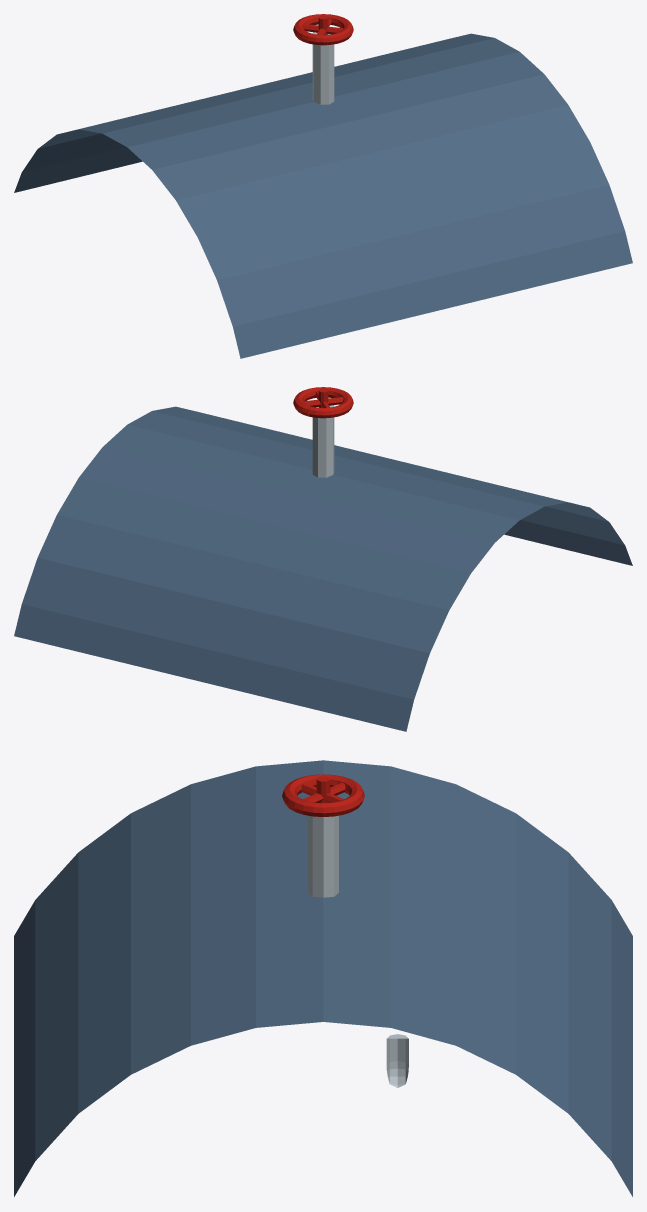
File: cell_38.obj
3 renders of one model, top to bottom at view 1: azimuth 30°, elevation 25°; view 2: azimuth 150°, elevation 25°; view 3: azimuth 270°, elevation 25°, orthographic. The views are drawn at different scales.
Size of the model in its own units: 1 by 0.5132 by 1.
